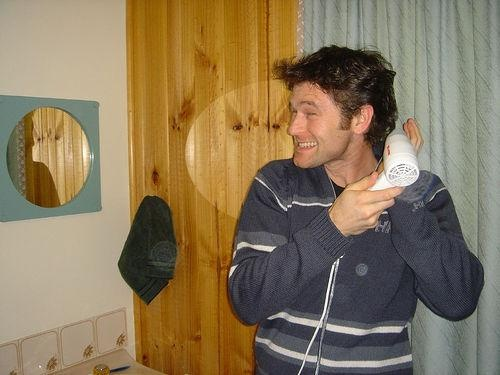person: (226, 48, 487, 373)
